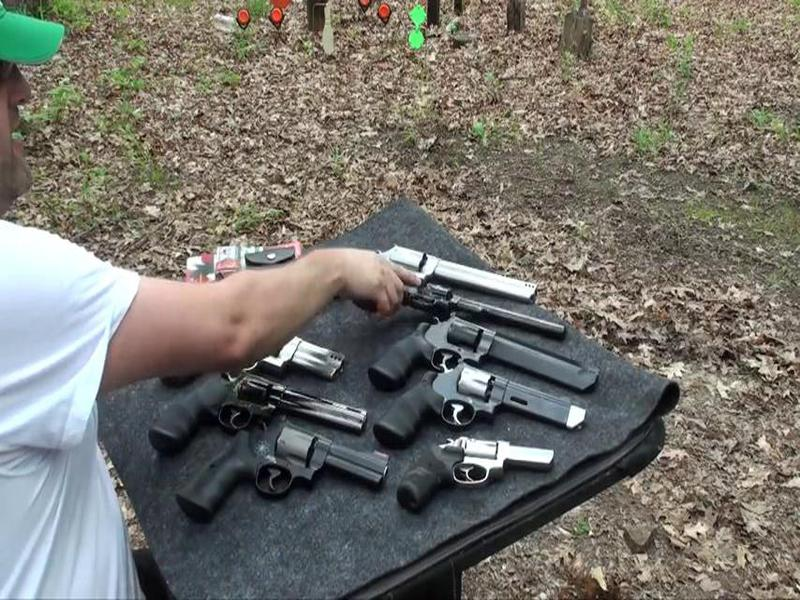Revolver: (379, 308, 588, 385)
